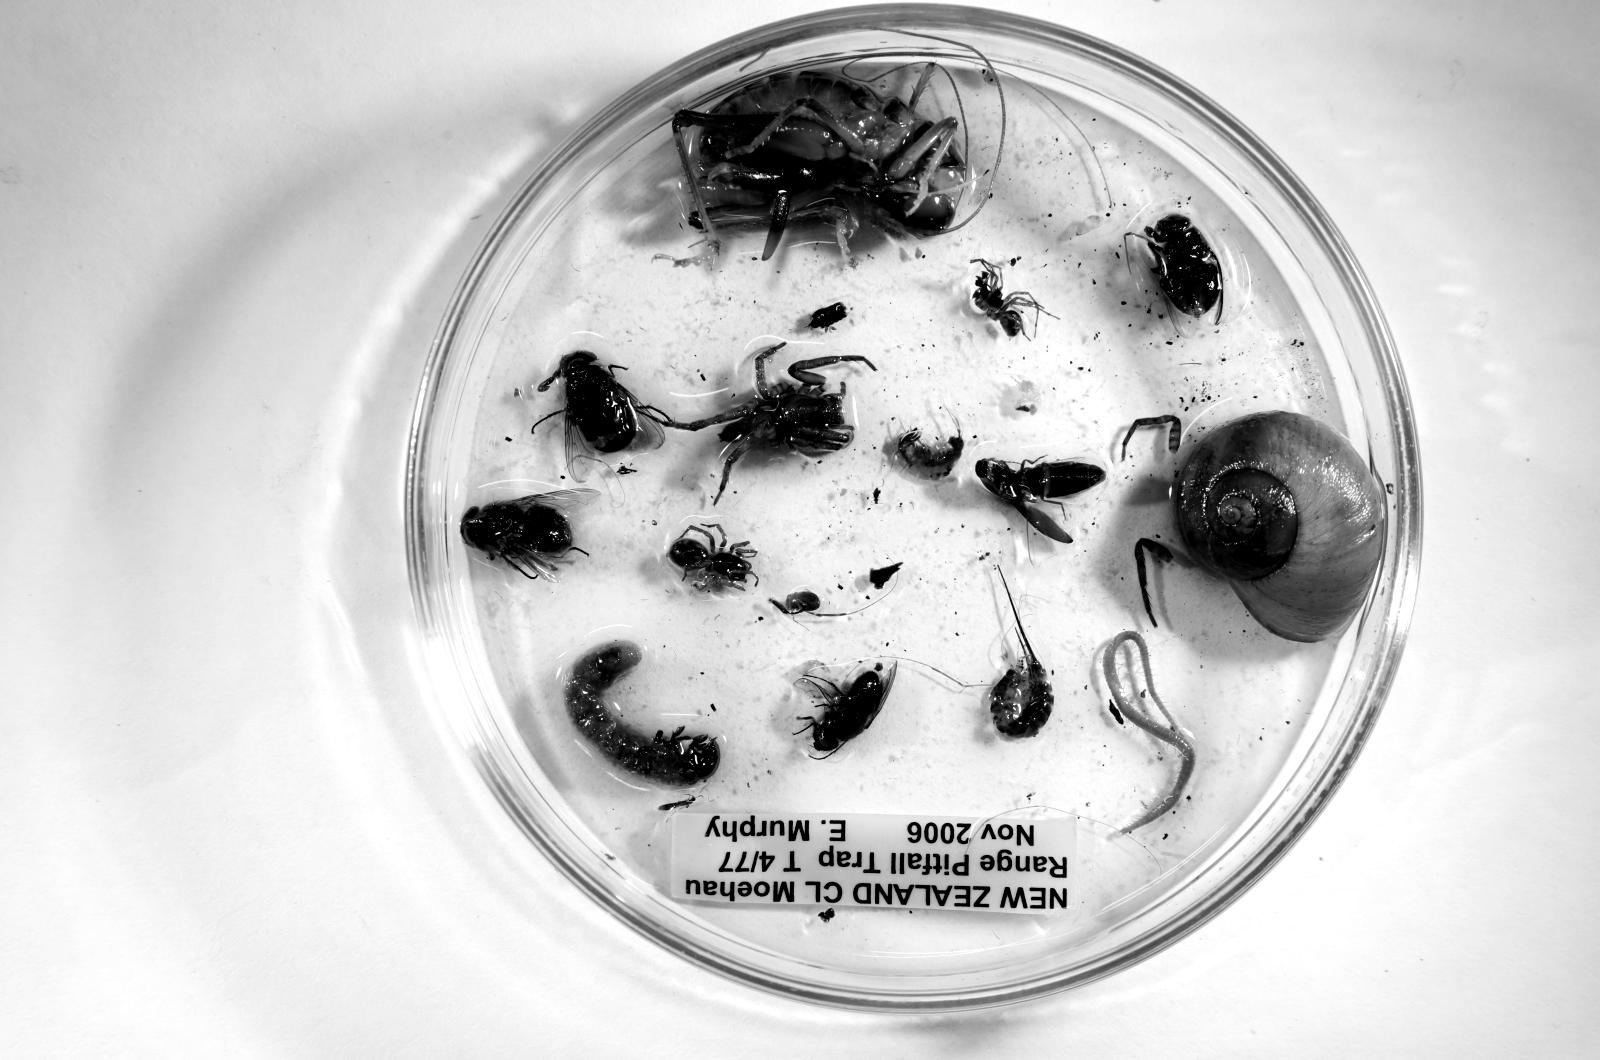amphipoda: (894, 428, 964, 480)
araneae: (662, 343, 874, 504), (667, 523, 758, 592), (970, 259, 1048, 337)
archaeognatha: (989, 589, 1054, 737)
chilopoda: (1102, 631, 1196, 834)
coleoptera: (976, 459, 1105, 543)
coleoptera_larva: (564, 640, 719, 787)
diptera: (536, 350, 663, 465), (460, 490, 597, 580), (795, 661, 896, 758), (1144, 214, 1223, 318)
gastropoda: (1174, 412, 1386, 642)
opiliones: (770, 590, 821, 615)
orthoptera: (673, 72, 970, 260)
